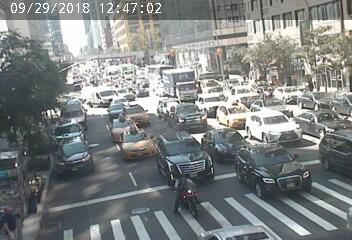car: (166, 70, 201, 103), (325, 127, 352, 164), (298, 90, 328, 113), (259, 158, 293, 176), (253, 121, 296, 135), (67, 147, 91, 171), (168, 143, 201, 160), (222, 107, 245, 126), (309, 118, 331, 137), (141, 64, 170, 78), (62, 108, 83, 122), (182, 106, 197, 125), (278, 89, 298, 103), (120, 66, 135, 84), (214, 139, 245, 147), (61, 128, 79, 141), (335, 97, 352, 110), (239, 97, 266, 105), (231, 85, 252, 93), (202, 98, 226, 105), (135, 76, 150, 87), (126, 135, 145, 143), (125, 108, 142, 114), (202, 81, 216, 88), (110, 123, 130, 127), (100, 92, 113, 97), (107, 71, 119, 76), (114, 100, 120, 104), (106, 108, 115, 110)
